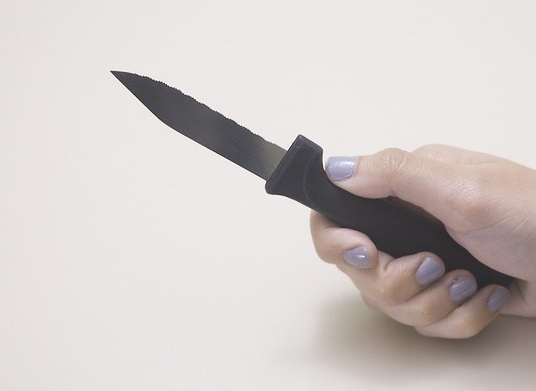knife: (106, 58, 453, 293)
